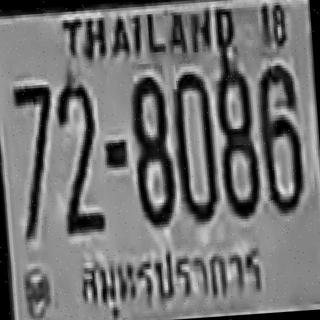N00: (170, 69, 218, 222)
N02: (54, 78, 102, 226)
N06: (256, 62, 303, 212)
N07: (11, 82, 59, 237)
N08: (212, 64, 260, 217), (129, 72, 175, 224)
P57: (70, 234, 269, 318)
